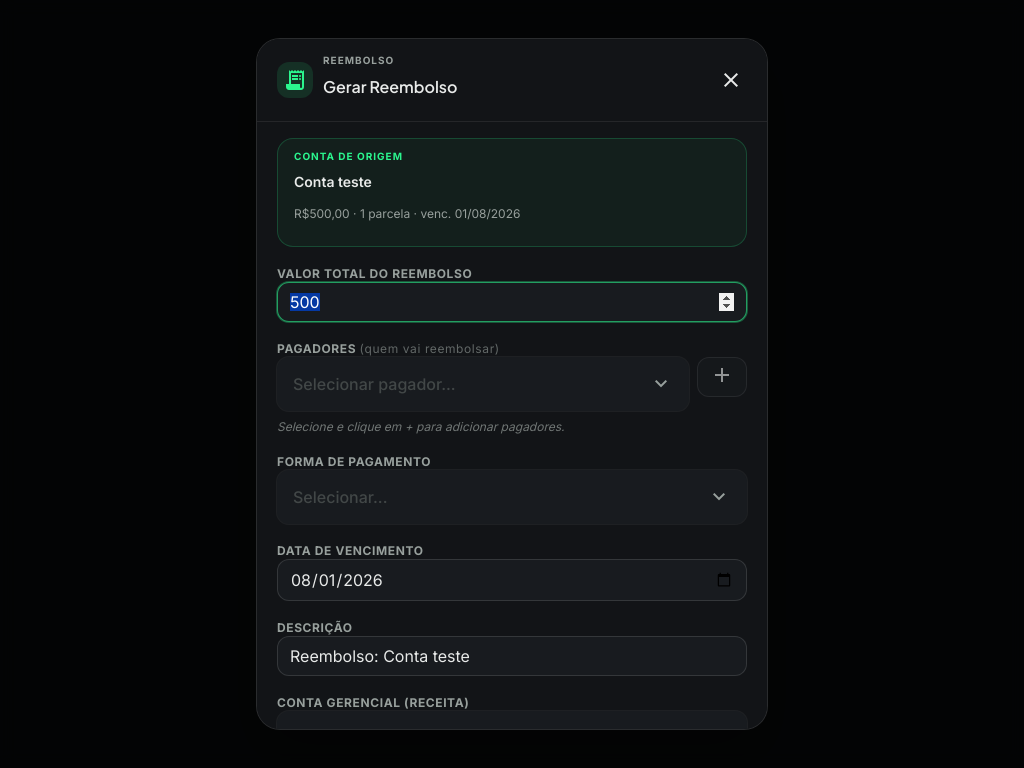
ReembolsoModal › shows error when conta gerencial is missing
Click the dropdown named "Adicionar pagador". click: x=483, y=384
box: [277,357,689,411]
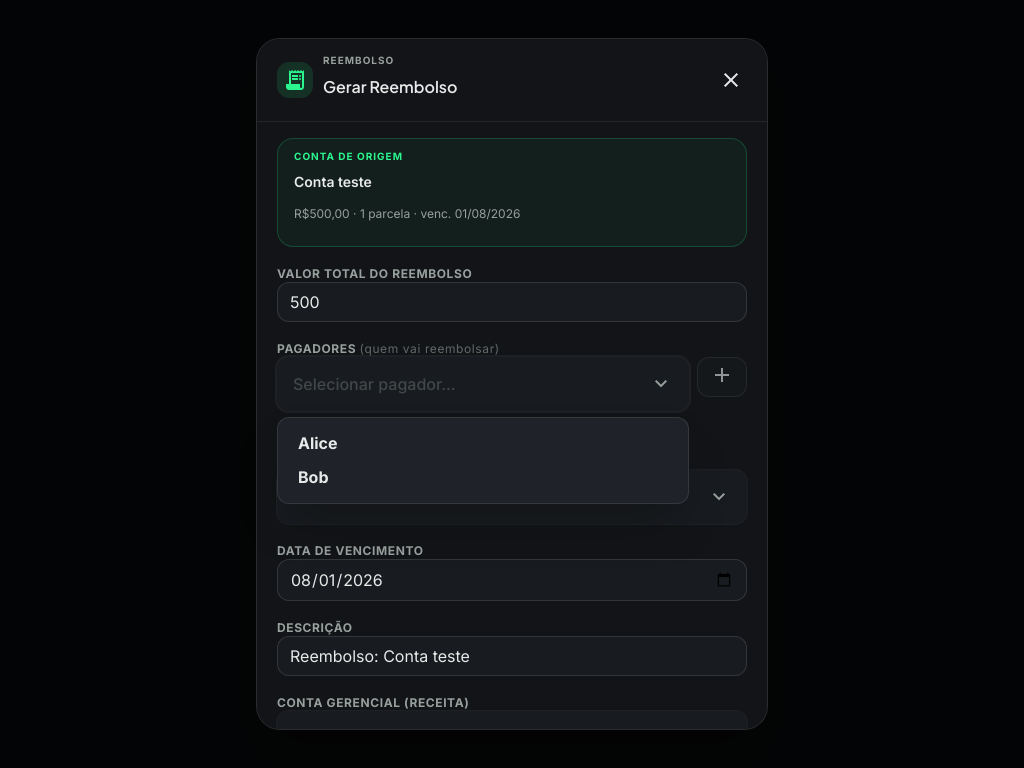
Click the button "Alice". click: x=318, y=443
box: [286,426,680,460]
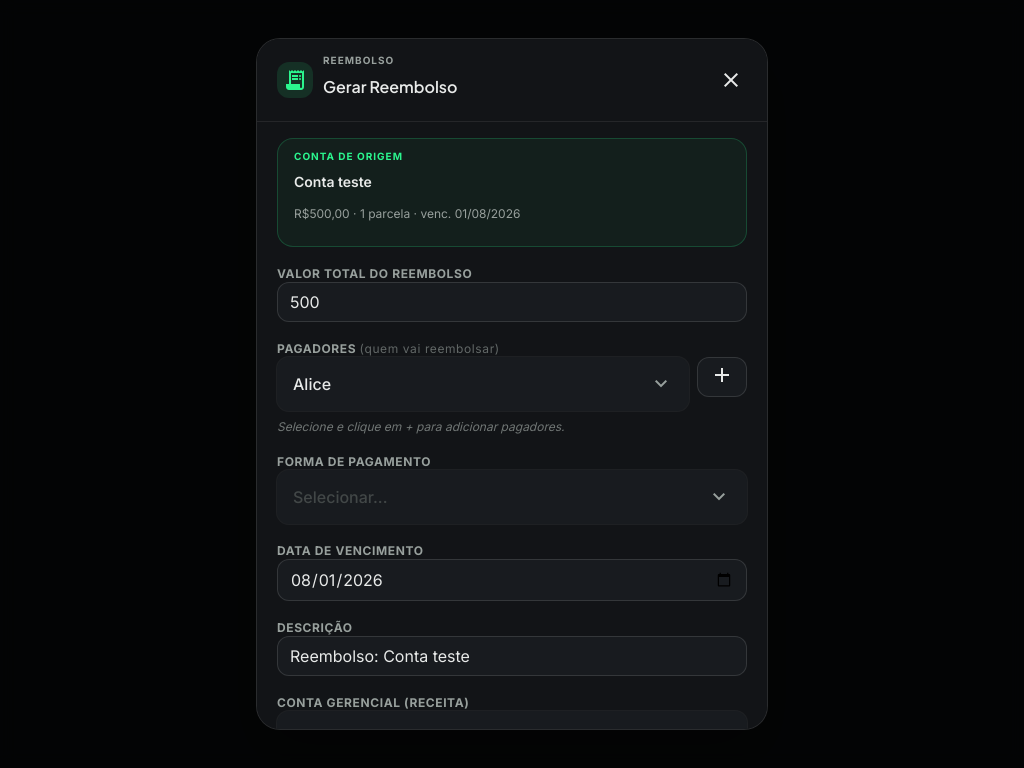
Click the button named "add". click: x=722, y=377
box: [697,357,747,397]
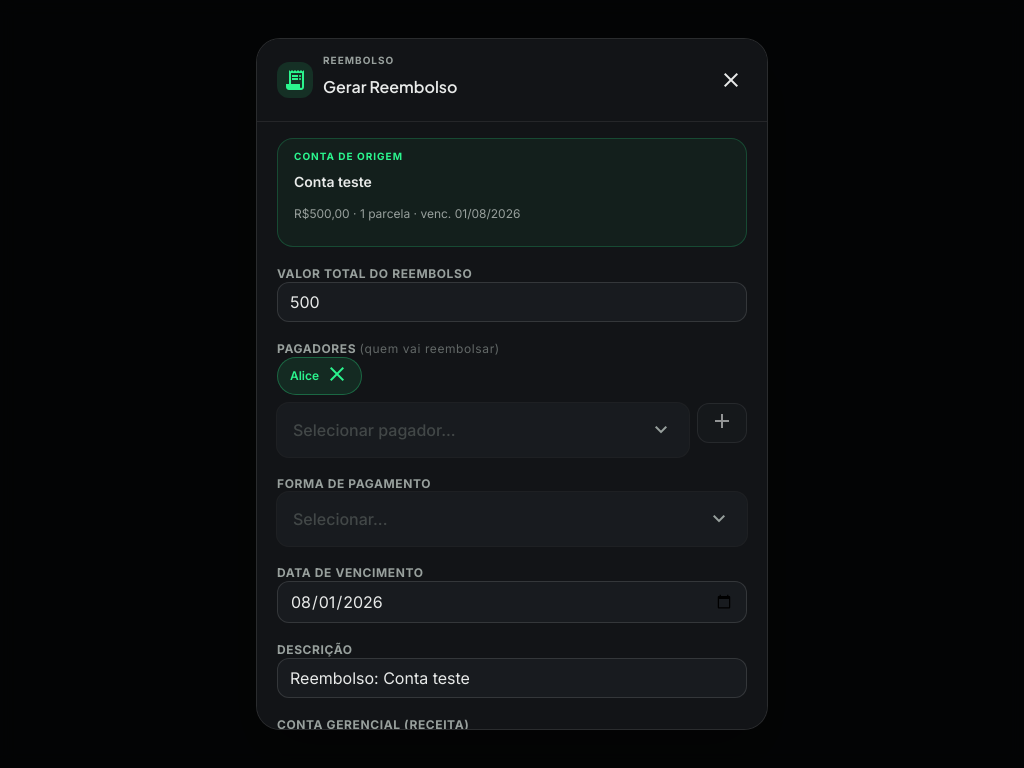
Click the dropdown named "Forma de pagamento". click: x=512, y=519
box: [277,492,747,546]
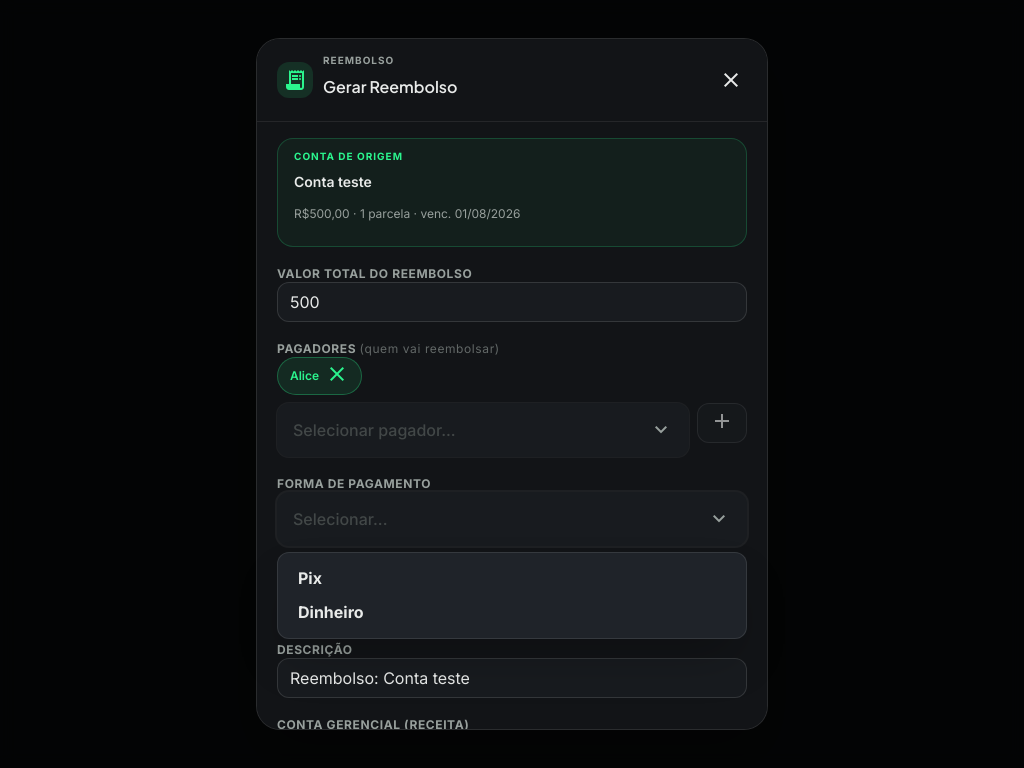
Click the button "Pix". click: x=310, y=578
box: [286,561,738,595]
(page scrolled)
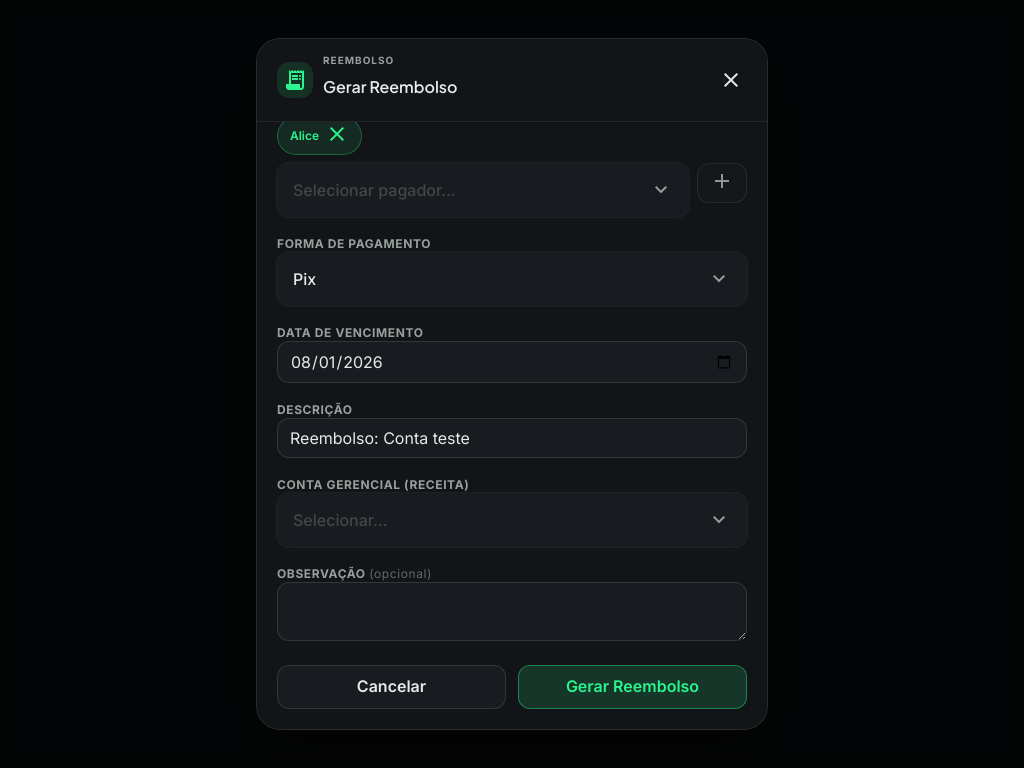
Click the button "Gerar Reembolso". click: x=632, y=687
box: [518,665,747,709]
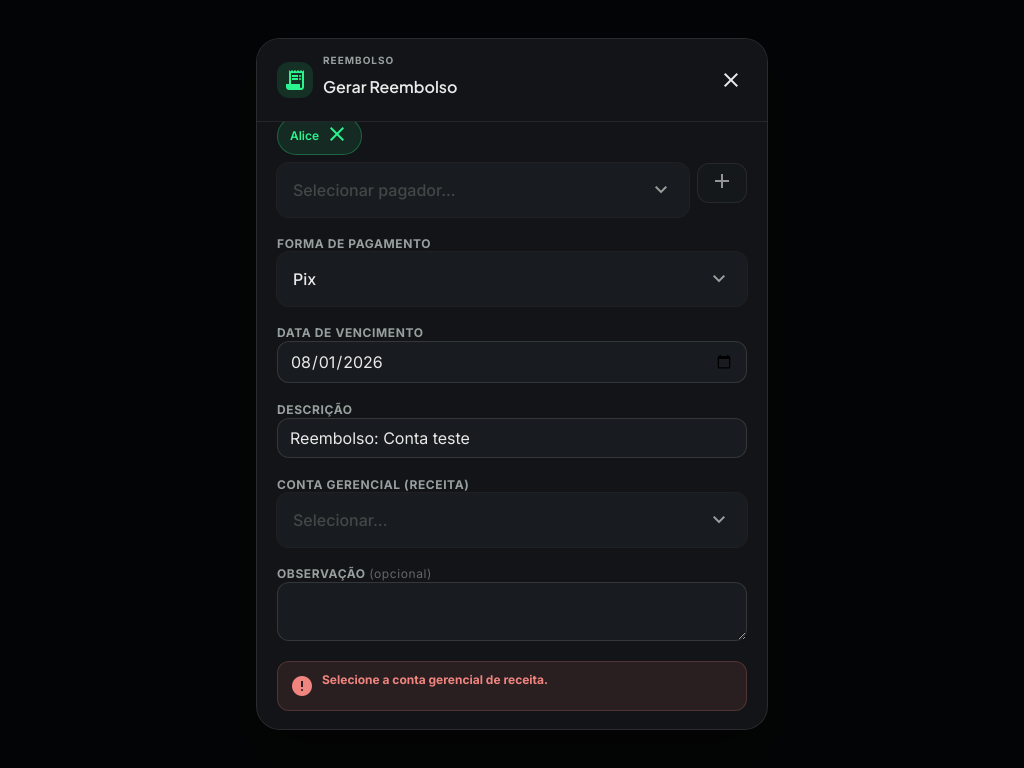
Expected: the text "Selecione a conta gerencial de receita." is shown, [322,672,548,688]
